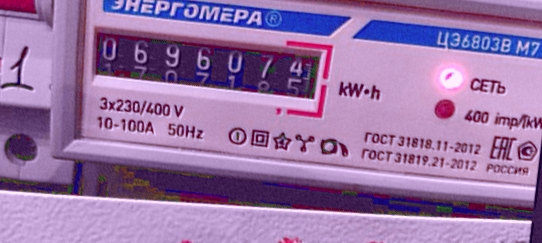0: (99, 36, 120, 63), (225, 48, 245, 76)
4: (287, 55, 306, 78)
5: (285, 77, 303, 99)
6: (193, 44, 214, 73), (131, 39, 151, 66)
7: (257, 53, 276, 81)
9: (162, 42, 181, 69)
screen: (77, 14, 337, 124)
